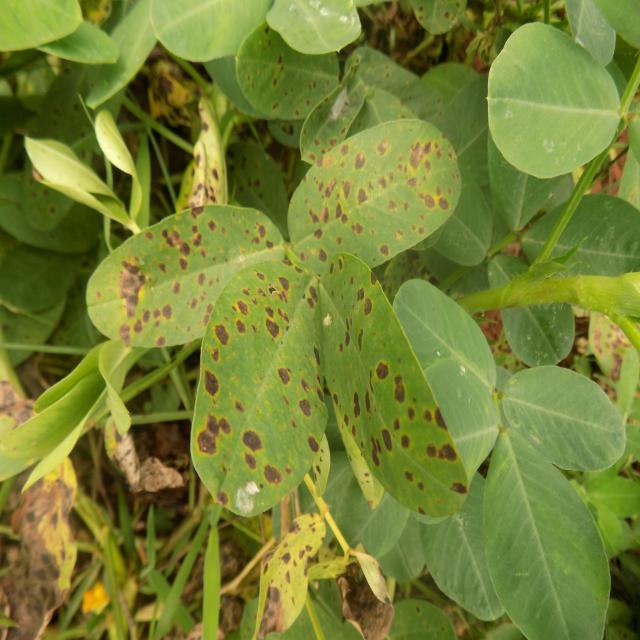Ground nut_healthy: (481, 412, 606, 636), (490, 22, 620, 178), (504, 356, 628, 484)
Ground nut_tikka leaf spot: (328, 265, 465, 507), (193, 254, 320, 511), (75, 209, 279, 329), (288, 121, 462, 261), (232, 19, 355, 110)
